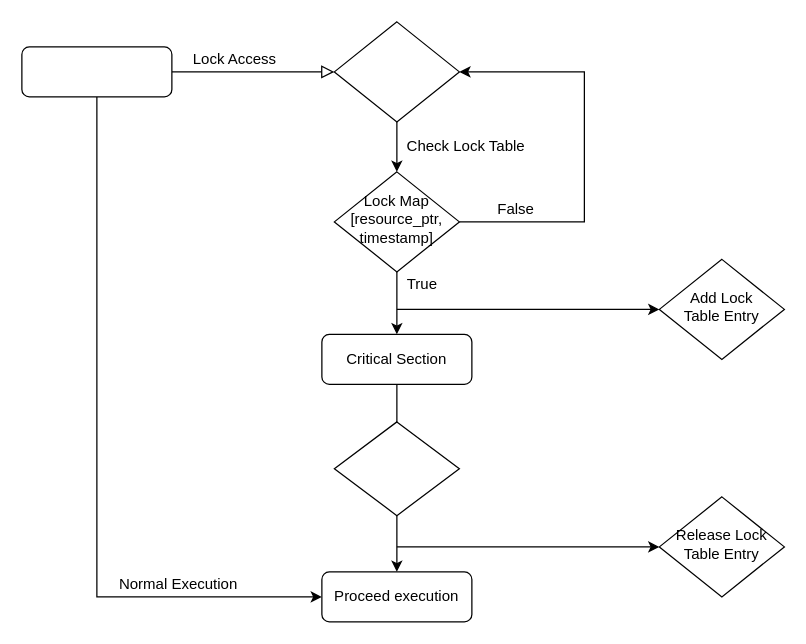
This 806x644 diagram has some shape labels left out. Each missing label, with the centre of its shape:
#LCK_AQR: the point at 396,71
#LCK_RELEASE: the point at 396,468
Instruction Stream: the point at 96,71
